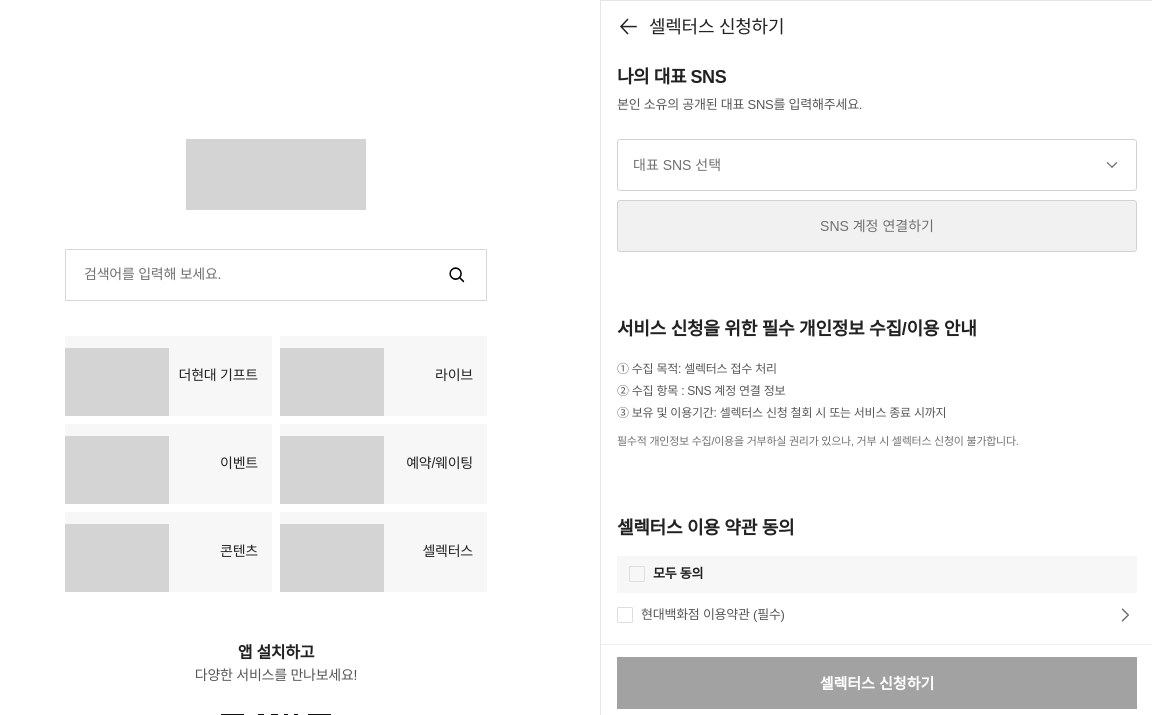
Test: apply flow › shows the login modal when OAuth authorization returns 401
Click the dropdown labelled "대표 SNS" at (677, 165), box [617, 139, 1137, 191]
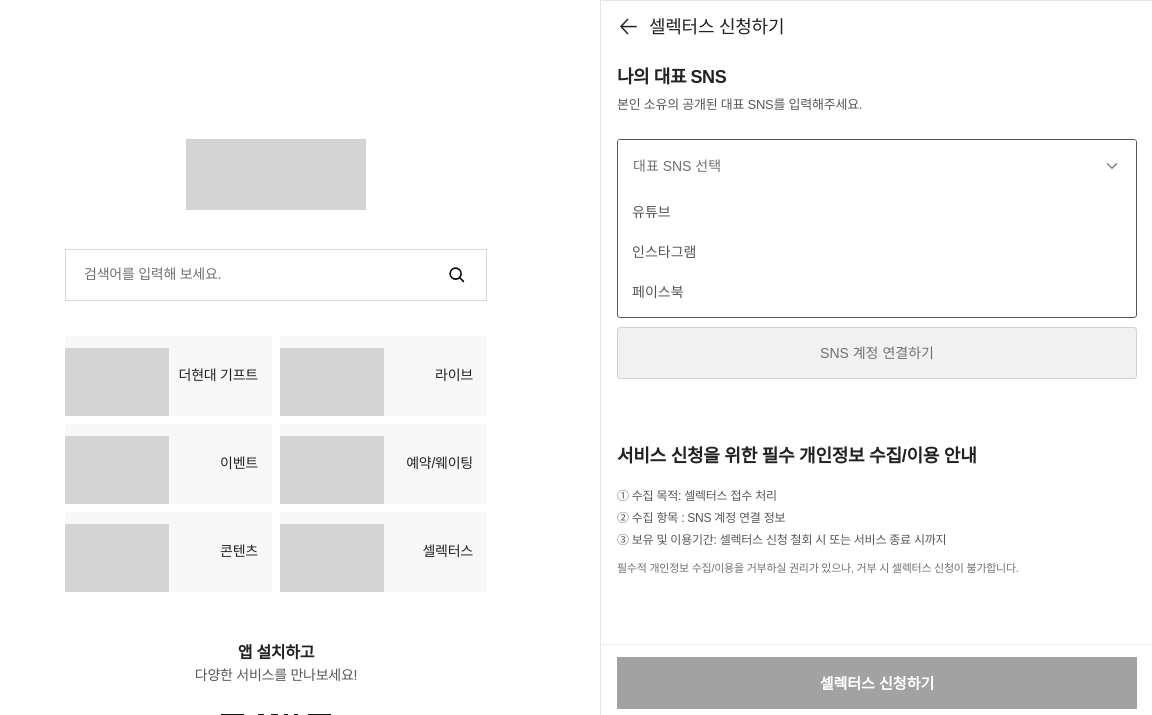
Click the option "인스타그램" at (664, 252), box [618, 232, 1136, 272]
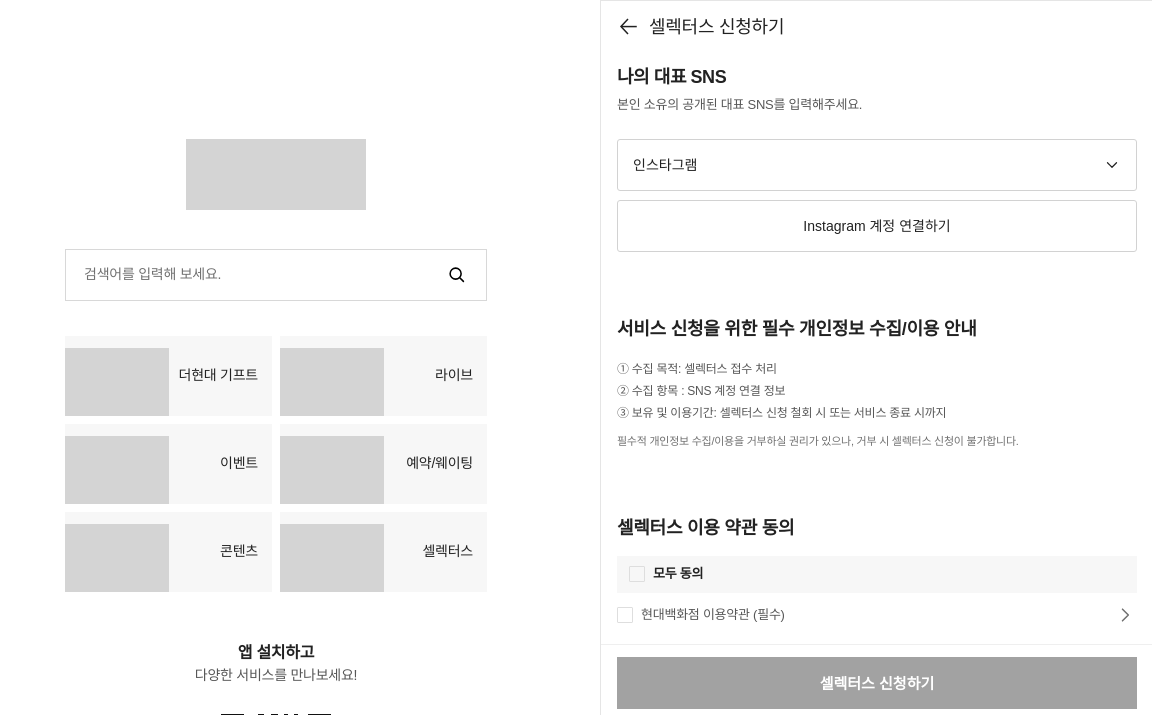
Click the button "Instagram 계정 연결하기" at (877, 226), box [617, 200, 1137, 252]
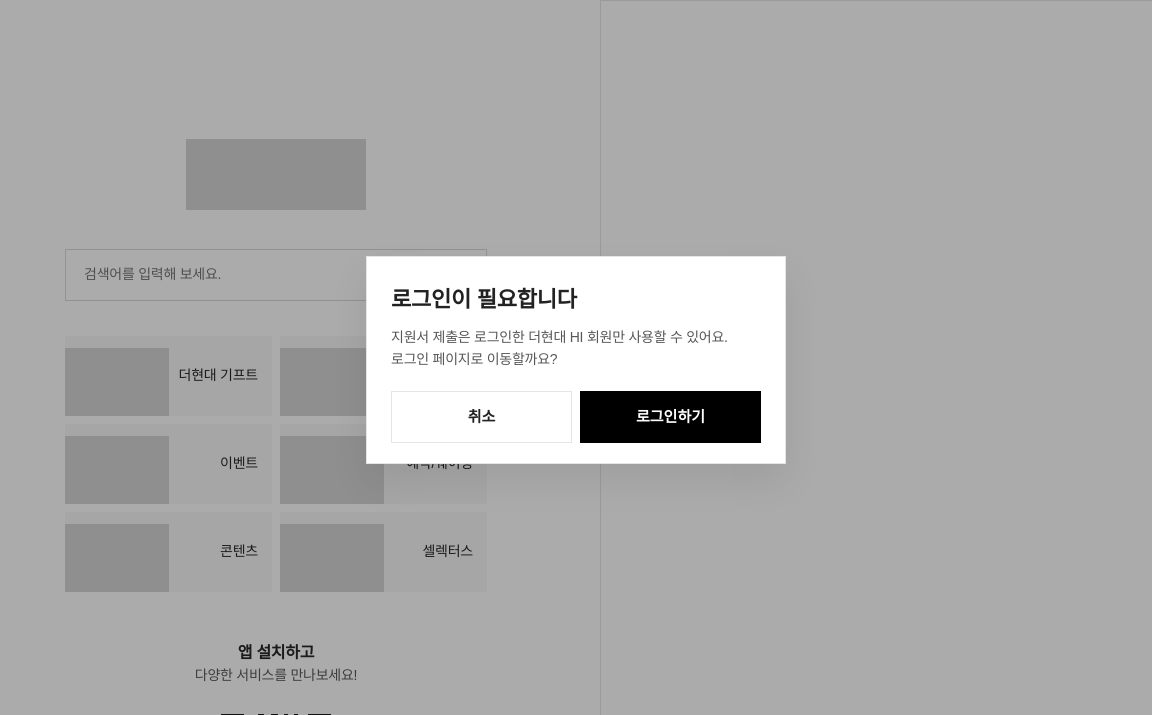
Now the text "지원서 제출은 로그인한 더현대 HI 회원만 사용할 수 있어요. 로그인 페이지로 이동할까요?" is shown, box [391, 326, 761, 371]
